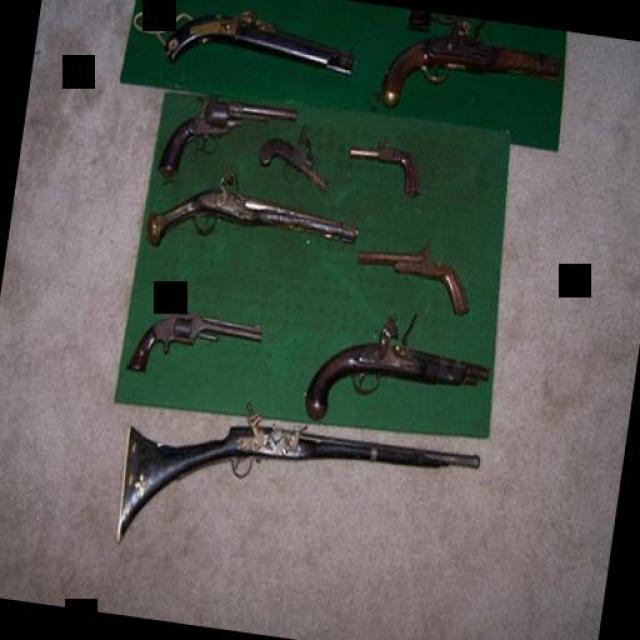gun: (298, 304, 504, 438), (146, 78, 299, 198), (122, 293, 262, 382), (348, 234, 477, 328), (342, 131, 426, 205), (256, 119, 332, 188)
